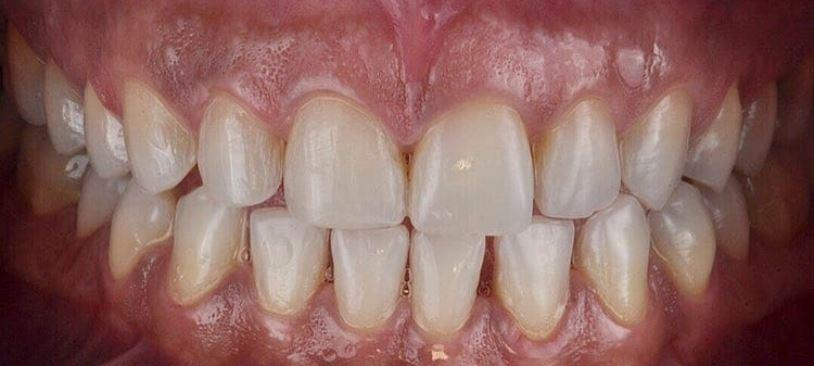1st Molar: (16, 123, 87, 217), (752, 151, 809, 243), (8, 27, 45, 126), (779, 60, 812, 147)
1st Premolar: (654, 182, 718, 299), (106, 177, 168, 281), (695, 79, 746, 192), (84, 80, 124, 177)
2nd Premolar: (703, 178, 752, 263), (46, 56, 84, 156), (75, 169, 126, 241), (743, 83, 778, 169)
Canine: (168, 186, 249, 309), (579, 199, 652, 327), (626, 78, 694, 211), (123, 77, 196, 194)
Central Incisor: (412, 90, 535, 237), (284, 90, 409, 228), (332, 227, 410, 339), (408, 233, 485, 342)
Lateral Incisor: (536, 96, 624, 219), (197, 91, 285, 209), (498, 220, 575, 348), (247, 207, 327, 323)
